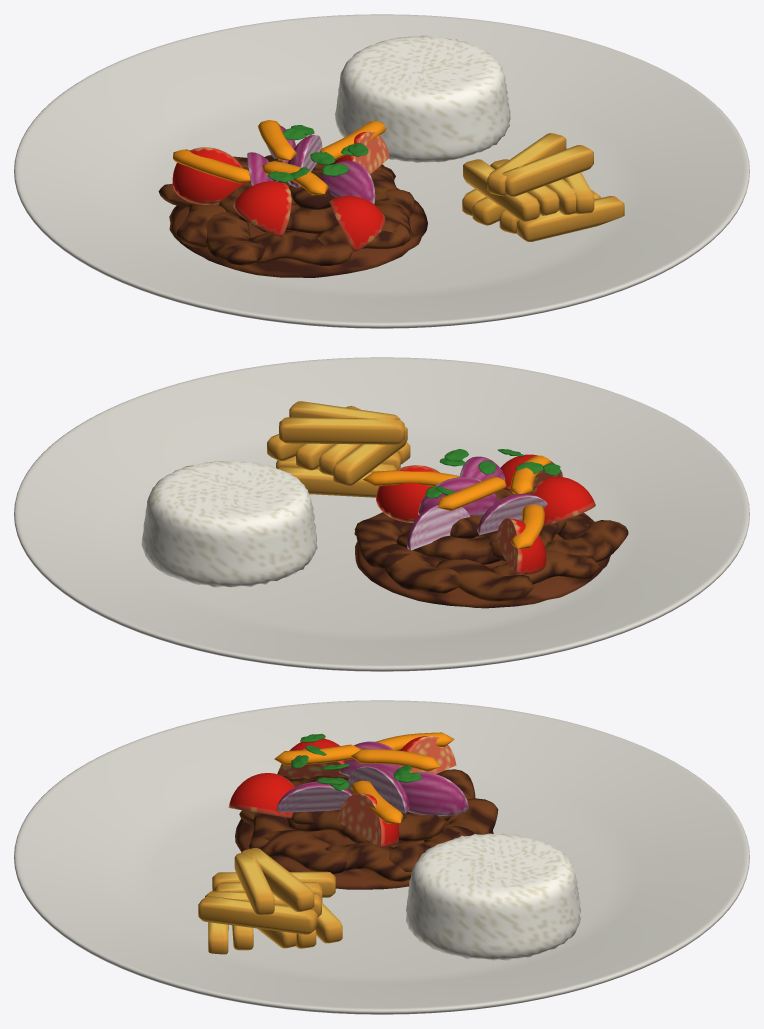
Rendered from paso-5.glb.
The picture shows the model from 3 angles, top to bottom: view 1: azimuth 30°, elevation 25°; view 2: azimuth 150°, elevation 25°; view 3: azimuth 270°, elevation 25°; orthographic projection.
Visible parts, largest first — view 1: paso-5-0, paso-5-37, paso-5-1, paso-5-47, paso-5-8, paso-5-21, paso-5-23, paso-5-38, paso-5-7, paso-5-24, paso-5-46, paso-5-48 (+18 smaller); view 2: paso-5-0, paso-5-37, paso-5-1, paso-5-48, paso-5-5, paso-5-4, paso-5-21, paso-5-7, paso-5-22, paso-5-3, paso-5-23, paso-5-46 (+18 smaller); view 3: paso-5-0, paso-5-37, paso-5-43, paso-5-1, paso-5-10, paso-5-20, paso-5-22, paso-5-24, paso-5-48, paso-5-19, paso-5-2, paso-5-47 (+18 smaller).
Boxes of the visible parts, x1,y1,x2,y2 form: paso-5-0: (14, 14, 749, 328); paso-5-37: (335, 35, 510, 162); paso-5-1: (169, 187, 427, 277); paso-5-47: (502, 145, 593, 196); paso-5-8: (248, 230, 352, 265); paso-5-21: (233, 181, 291, 237); paso-5-23: (172, 147, 247, 204); paso-5-38: (517, 196, 624, 241); paso-5-7: (205, 212, 265, 265); paso-5-24: (329, 196, 385, 252); paso-5-46: (463, 159, 539, 221); paso-5-48: (487, 133, 566, 196); paso-5-0: (14, 357, 749, 671); paso-5-37: (141, 460, 317, 587); paso-5-1: (355, 530, 610, 608); paso-5-48: (279, 417, 404, 444); paso-5-5: (435, 559, 533, 601); paso-5-4: (377, 543, 459, 593); paso-5-21: (531, 476, 595, 526); paso-5-7: (544, 520, 628, 562); paso-5-22: (376, 465, 439, 522); paso-5-3: (354, 518, 409, 569); paso-5-23: (495, 518, 546, 574); paso-5-46: (333, 426, 407, 485); paso-5-0: (14, 700, 749, 1014); paso-5-37: (406, 833, 580, 961); paso-5-43: (198, 896, 317, 934); paso-5-1: (235, 819, 493, 889); paso-5-10: (258, 830, 346, 873); paso-5-20: (399, 772, 468, 816); paso-5-22: (337, 793, 399, 847); paso-5-24: (228, 773, 294, 818); paso-5-48: (241, 848, 314, 911); paso-5-19: (276, 781, 352, 812); paso-5-2: (325, 842, 411, 881); paso-5-47: (234, 852, 274, 915).
Bounding box in the file's own units: 0.33 × 0.0454 × 0.33.
